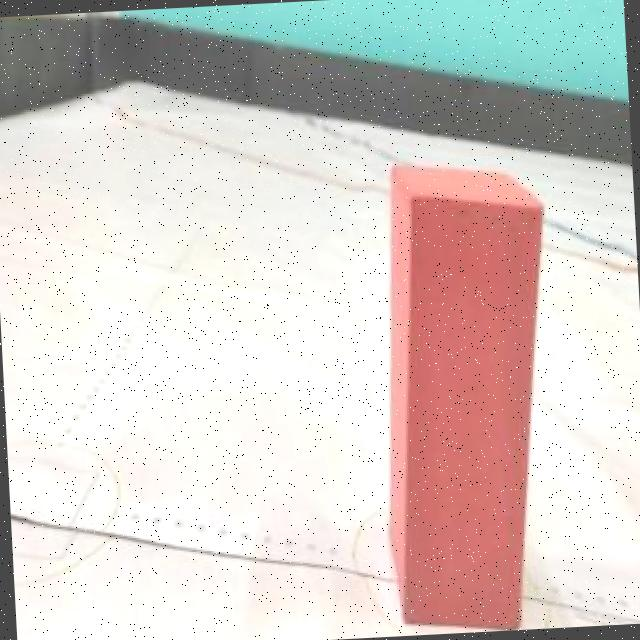redbox: (371, 155, 565, 632)
